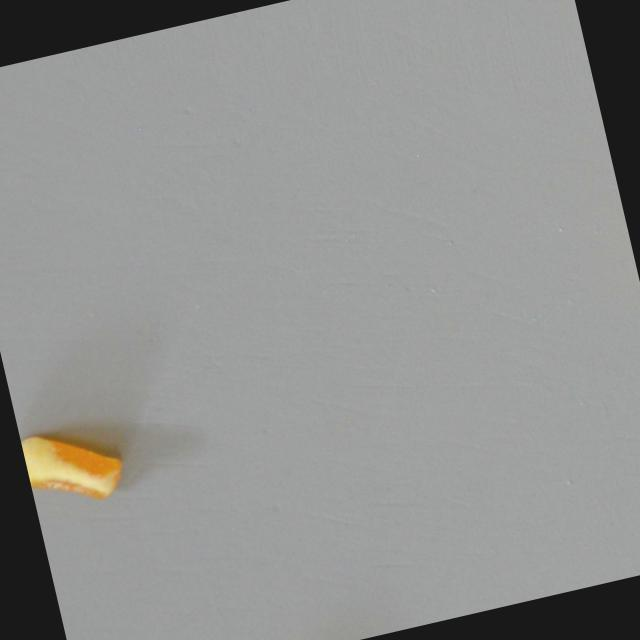pelicula: (19, 416, 130, 516)
